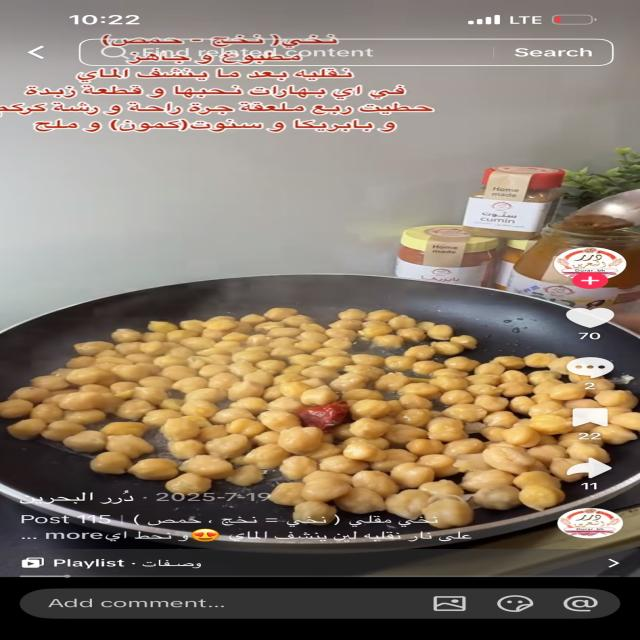Nakhi: (3, 299, 640, 527)
